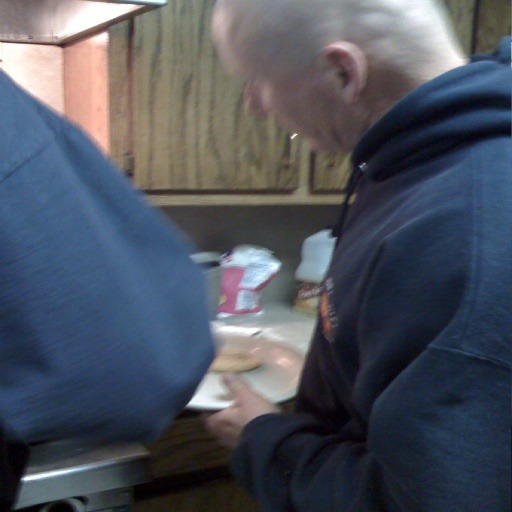hand: (205, 192, 511, 511)
